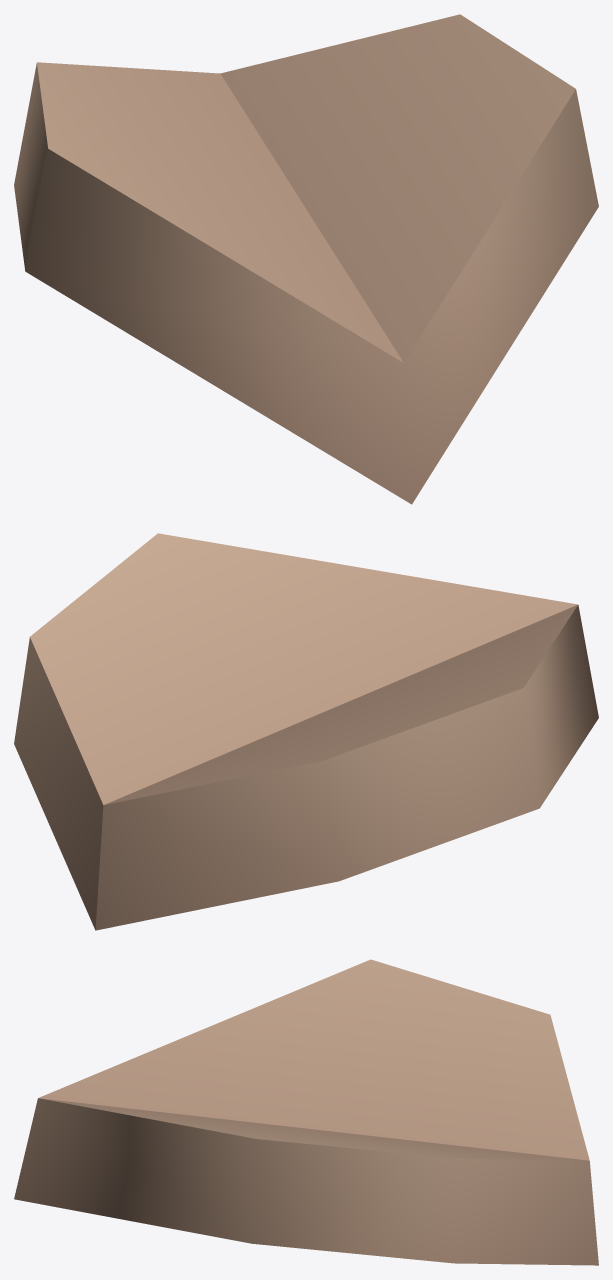
File: (%no-merge) 44.glb
The picture shows the model from 3 angles, top to bottom: view 1: azimuth 30°, elevation 25°; view 2: azimuth 150°, elevation 25°; view 3: azimuth 270°, elevation 25°; orthographic projection. The views are drawn at different scales.
Parts seen in each view (by area): view 1: (%no-merge) 44; view 2: (%no-merge) 44; view 3: (%no-merge) 44.
Boxes of the visible parts, x1=… form: (%no-merge) 44: x1=14, y1=14, x2=598, y2=504; (%no-merge) 44: x1=14, y1=533, x2=598, y2=930; (%no-merge) 44: x1=14, y1=959, x2=598, y2=1265.
Size of the model in its own units: 0.1413 by 0.0609 by 0.1755.
